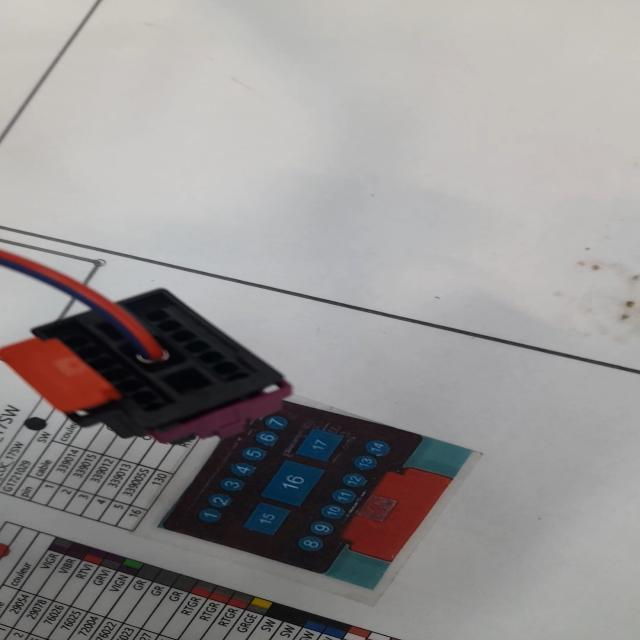connector: (0, 289, 293, 443)
